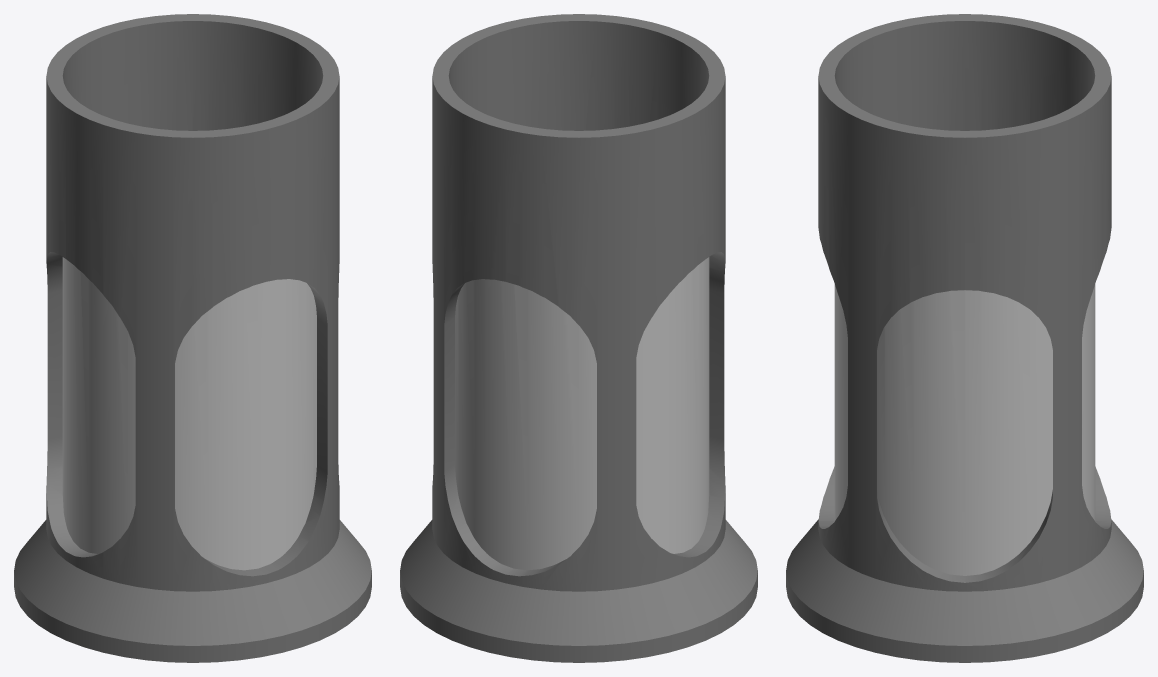
The model's file is LiftTube.fbx.
3 views of the same model, side by side, from view 1: azimuth 30°, elevation 25°; view 2: azimuth 150°, elevation 25°; view 3: azimuth 270°, elevation 25° (orthographic).
Parts seen in each view (by area): view 1: Lift_Tube_Window_2; view 2: Lift_Tube_Window_2; view 3: Lift_Tube_Window_2.
Boxes of the visible parts, x1,y1,x2,y2 form: Lift_Tube_Window_2: [14, 14, 371, 662]; Lift_Tube_Window_2: [400, 14, 757, 662]; Lift_Tube_Window_2: [786, 14, 1143, 662].
Size of the model in its own units: 2.79 by 4.4 by 2.79.
